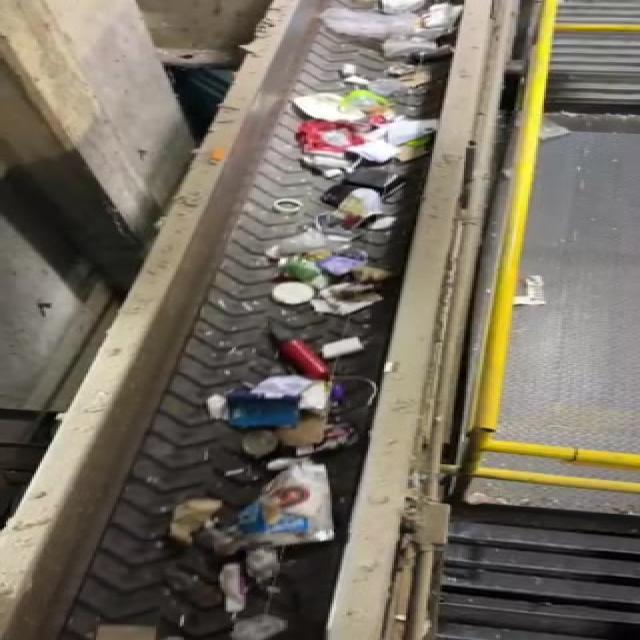pp: (220, 388, 311, 434)
ps: (206, 467, 340, 553), (214, 568, 248, 614)
